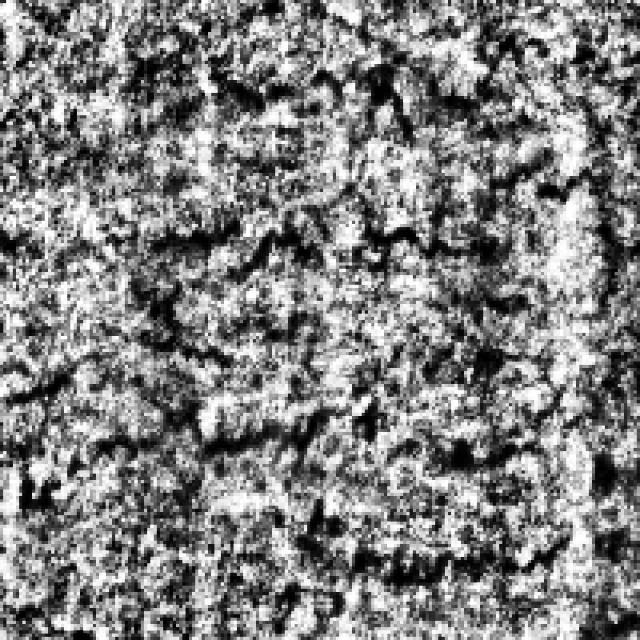Pitted_Surface: (0, 205, 547, 496), (119, 26, 598, 266), (132, 394, 582, 586)
